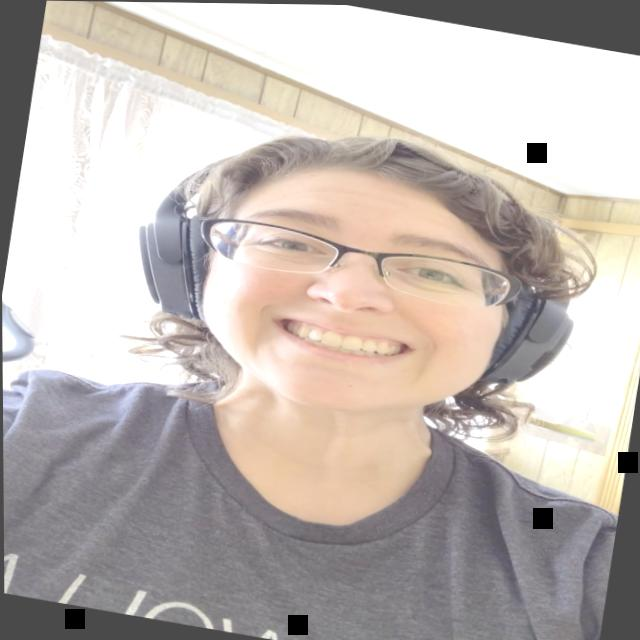NO-Mask: (177, 145, 525, 437)
